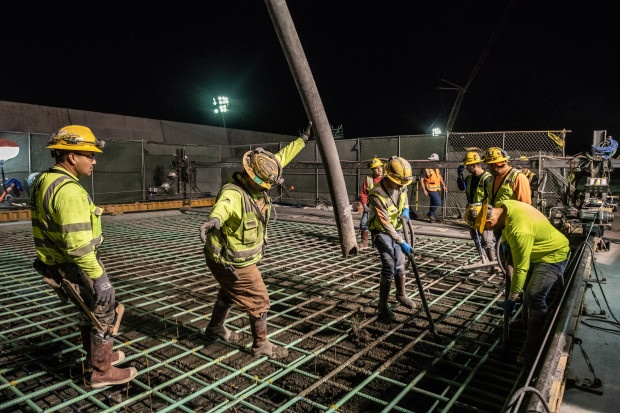white: (428, 152, 440, 164)
yellow: (51, 123, 99, 176), (242, 150, 281, 194), (463, 199, 497, 234), (383, 155, 413, 190), (486, 146, 508, 174), (463, 151, 482, 173), (370, 156, 384, 176)
